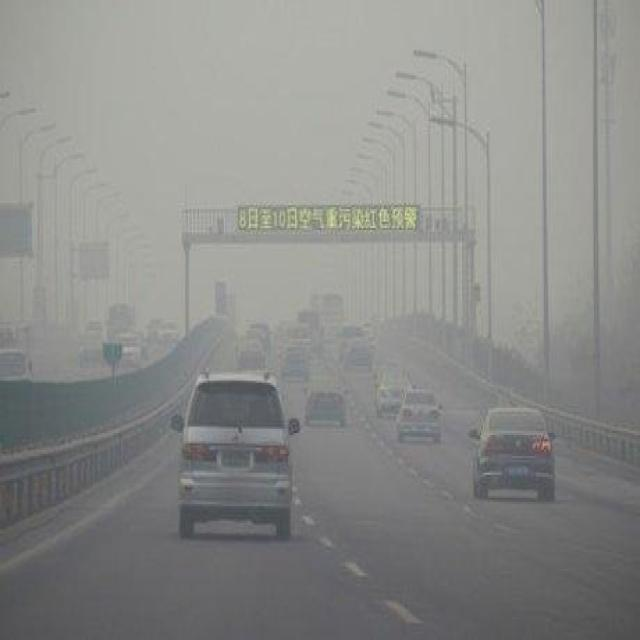Car: (168, 371, 294, 547), (471, 403, 558, 502)
